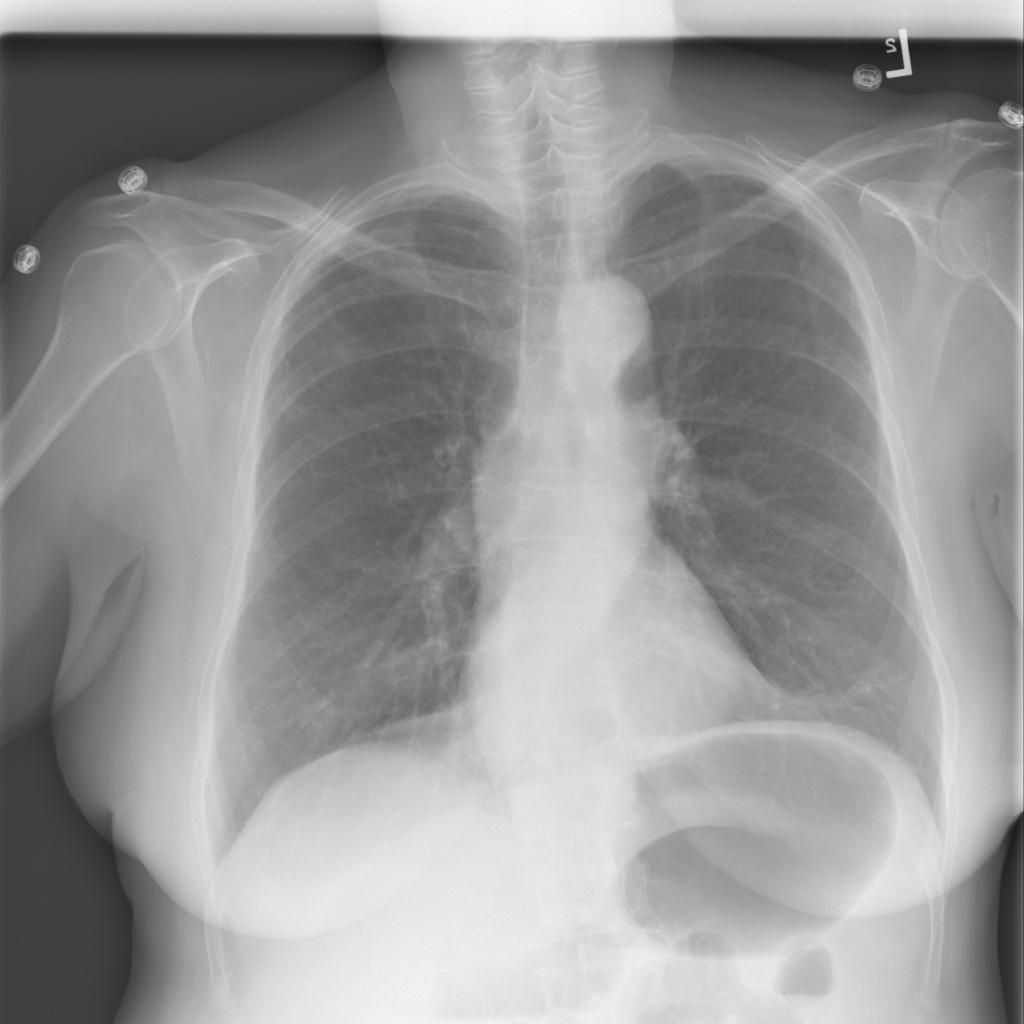Nodule: (124, 186, 137, 197)
